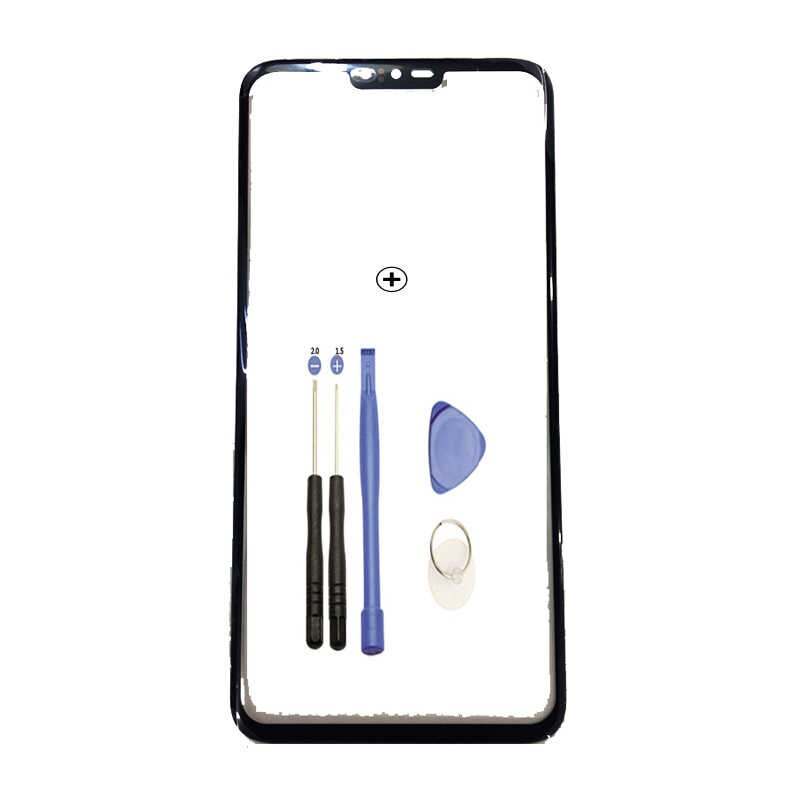phone: (224, 45, 580, 754)
